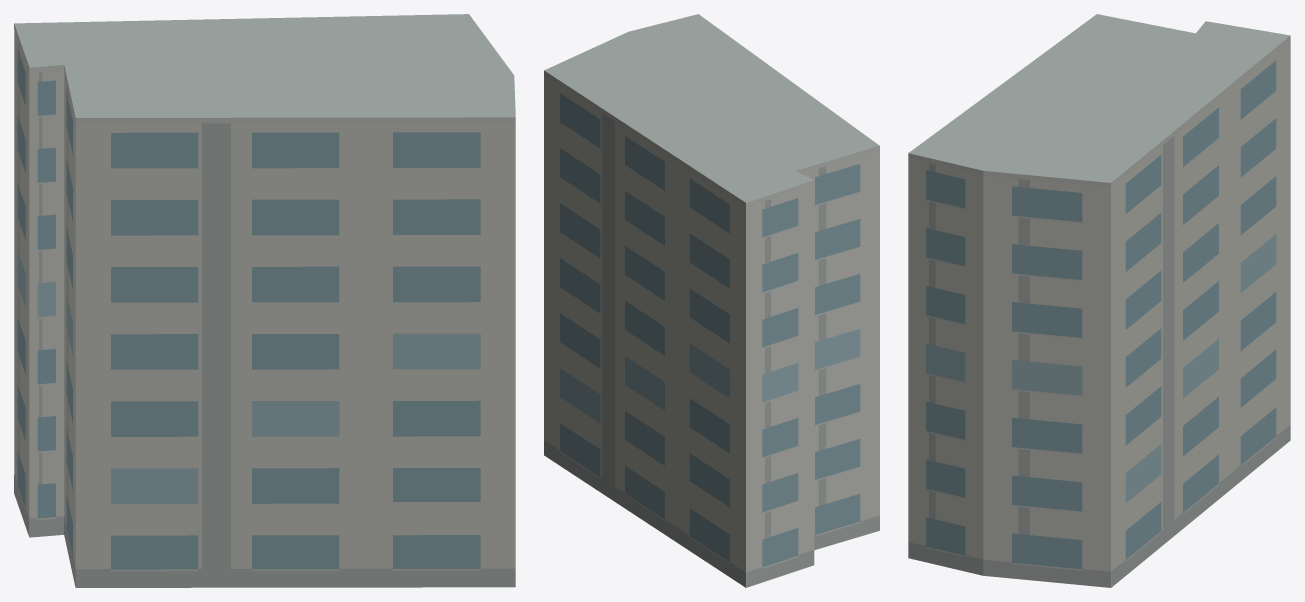
File: survey-upis-32773511.glb
3 renders of one model, left to right at view 1: azimuth 30°, elevation 25°; view 2: azimuth 150°, elevation 25°; view 3: azimuth 270°, elevation 25°, orthographic. The views are drawn at different scales.
Parts seen in each view (by area): view 1: survey-upis-32773511.tmp; view 2: survey-upis-32773511.tmp; view 3: survey-upis-32773511.tmp.
Part boxes in pixels (box(x1,y1,x2,y2)): survey-upis-32773511.tmp: box(14, 14, 515, 587); survey-upis-32773511.tmp: box(544, 14, 879, 587); survey-upis-32773511.tmp: box(908, 14, 1290, 587).
Bounding box in the file's own units: 19.11 × 21.35 × 18.27.
